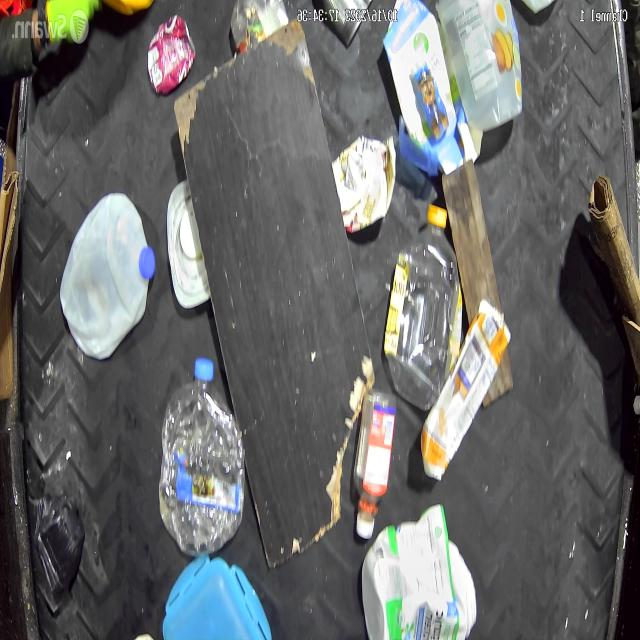can: (148, 10, 194, 94)
milk_jug: (61, 187, 157, 360)
non_white_jug: (165, 559, 268, 640)
plastic_bottle: (168, 356, 243, 555), (385, 202, 460, 392)
